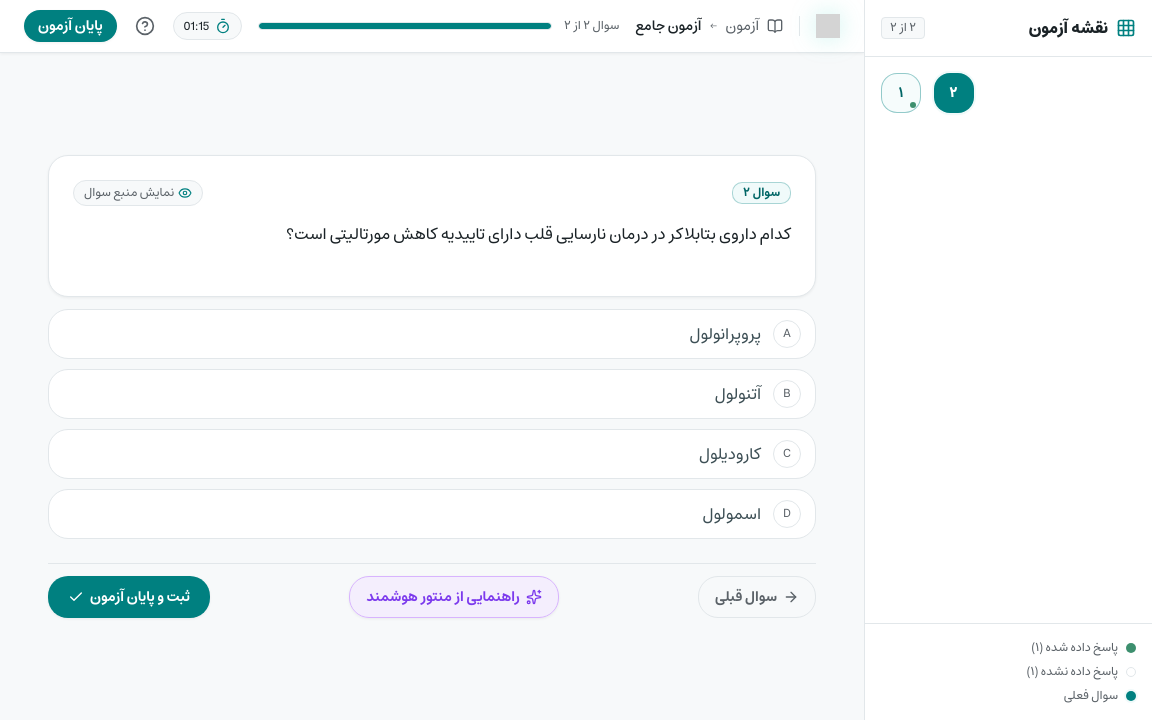
Test: ExamTakingView Component › Lifecycle invariant: unmount does NOT submit the exam; remounting resumes state
The width and height of the screenshot is (1152, 720).
Expected: the text "کدام داروی بتابلاکر در درمان نارسایی قلب دارای تاییدیه کاهش مورتالیتی است؟" is shown, [286,220,791,248]
// Question 1 answer is still marked on map
Click the button "سوال قبلی" at point(757, 597), box [698,576,816,618]
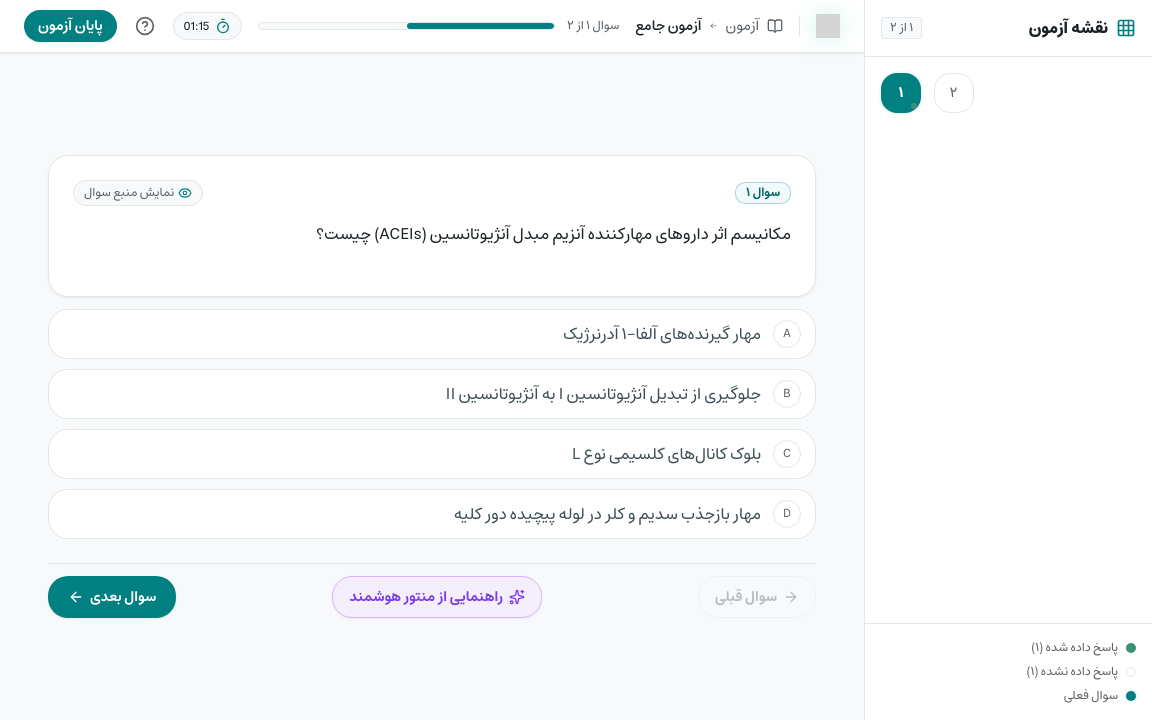
Expected: the text "مکانیسم اثر داروهای مهارکننده آنزیم مبدل آنژیوتانسین (ACEIs) چیست؟" is shown, [316,220,791,248]
